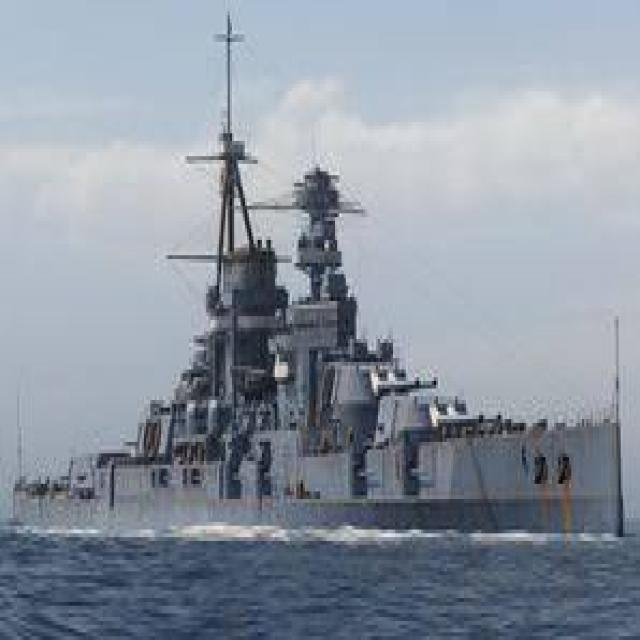navalvessels: (16, 26, 632, 543)
